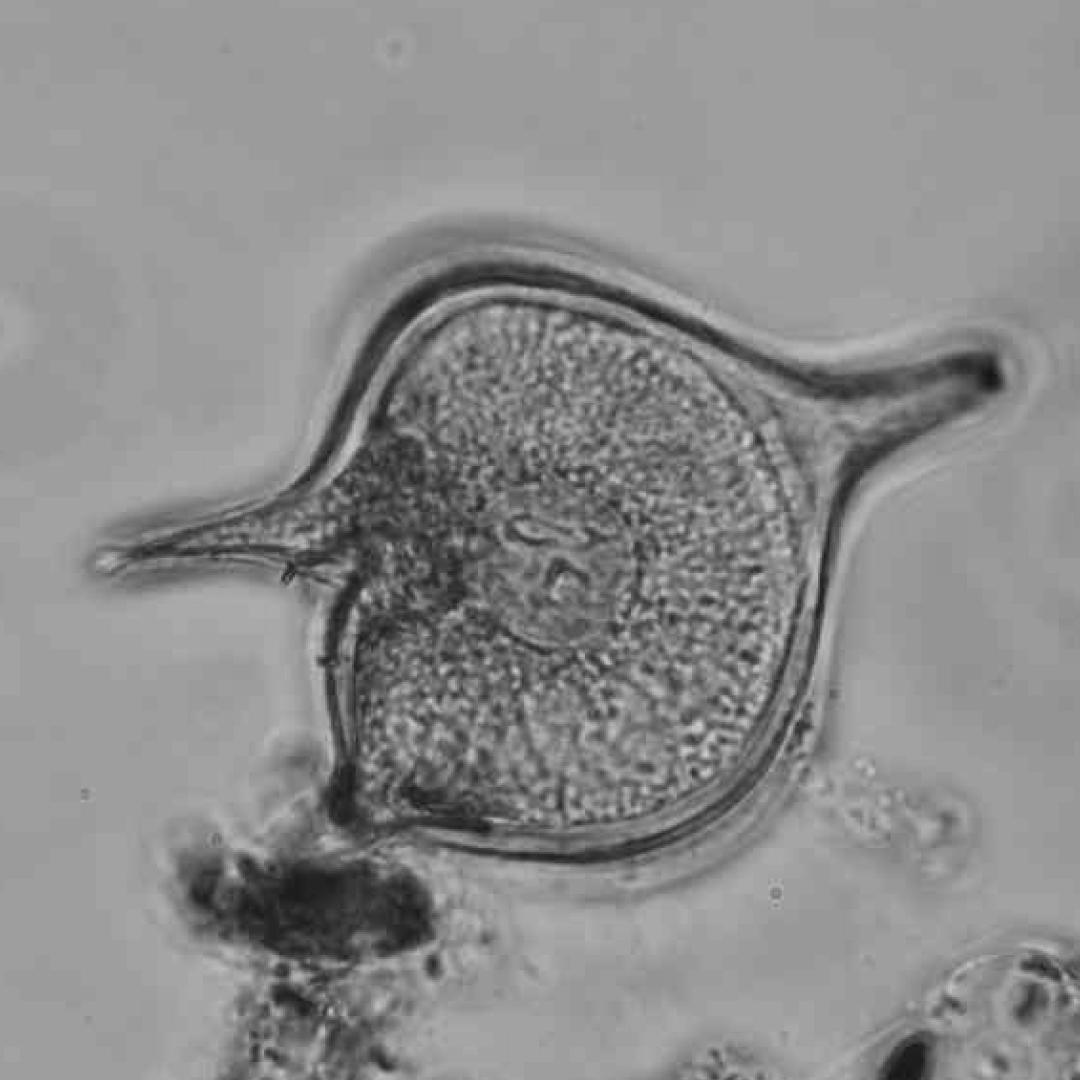protoperidinium_oceanicum: (85, 283, 986, 902)
